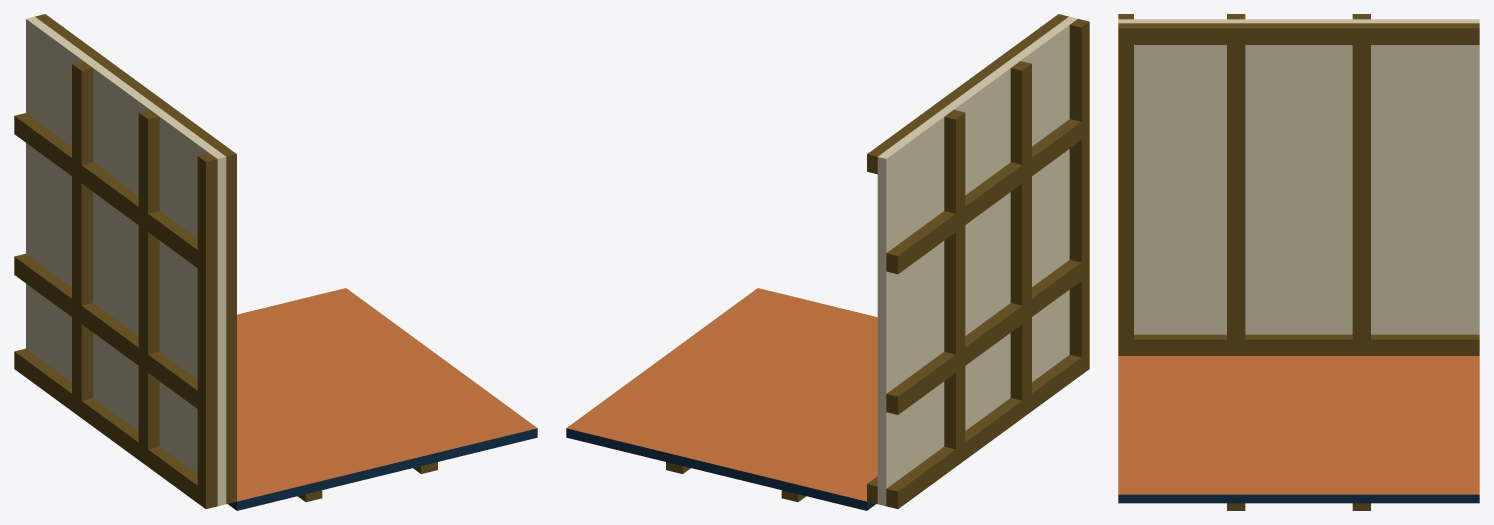
The model's file is WallWF.fbx.
3 views of the same model, side by side, from view 1: azimuth 30°, elevation 25°; view 2: azimuth 150°, elevation 25°; view 3: azimuth 270°, elevation 25° (orthographic). The views are drawn at different scales.
Parts seen in each view (by area): view 1: pCube122; view 2: pCube122; view 3: pCube122.
Part boxes in pixels (left/top/right/bottom): pCube122: left=14, top=14, right=537, bottom=510; pCube122: left=566, top=14, right=1089, bottom=510; pCube122: left=1118, top=14, right=1479, bottom=510.
Size of the model in its own units: 3 by 3.15 by 3.
